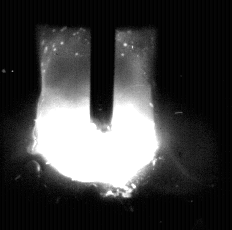arame: (91, 0, 115, 134)
poca: (32, 0, 160, 230)
